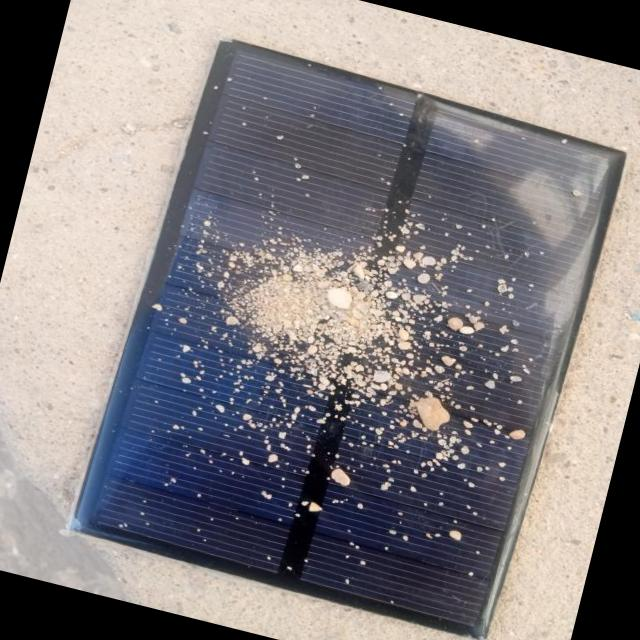faulty: (75, 50, 606, 633)
